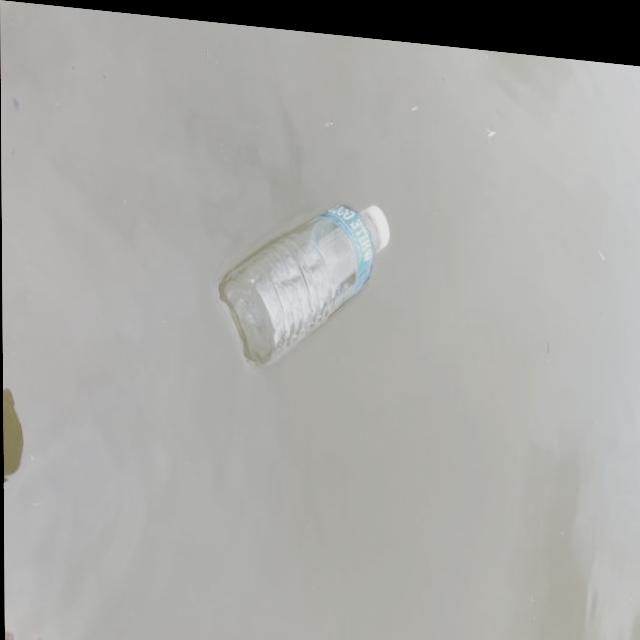waterbottle: (223, 174, 401, 399)
